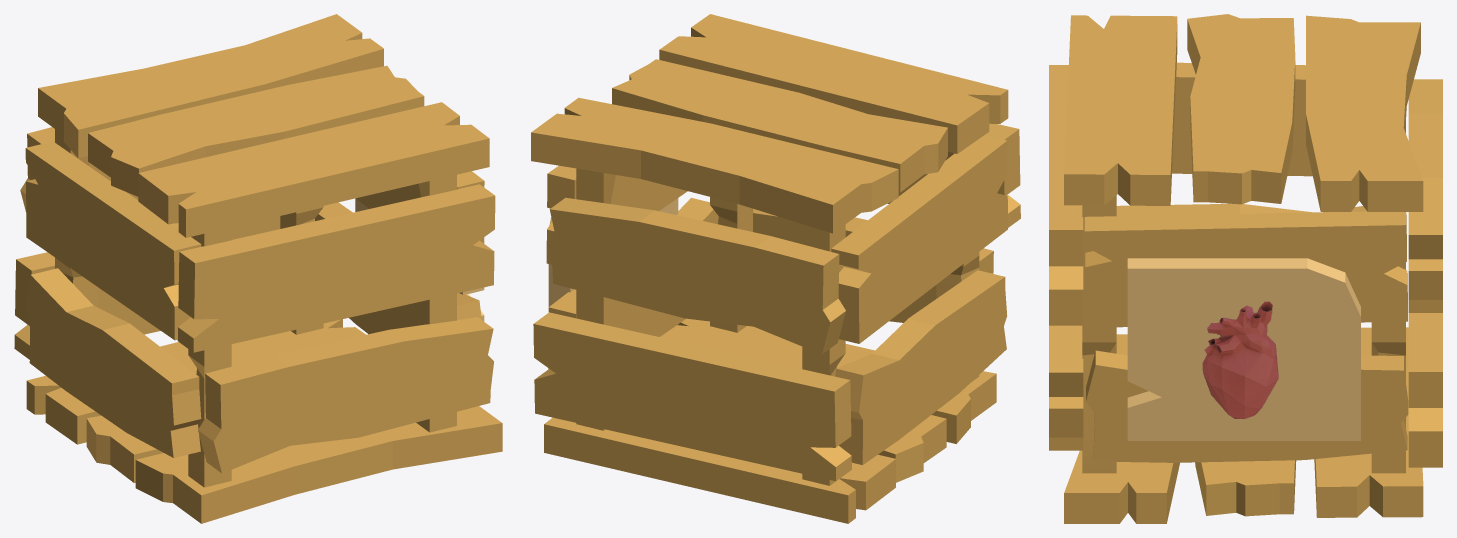
The model's file is BoxHeart.fbx.
3 renders of one model, left to right at view 1: azimuth 30°, elevation 25°; view 2: azimuth 150°, elevation 25°; view 3: azimuth 270°, elevation 25°, orthographic. The views are drawn at different scales.
Visible parts, largest first — view 1: Box_Heart; view 2: Box_Heart; view 3: Box_Heart.
Part boxes in pixels (x1,y1,x2,y2): Box_Heart: [14, 14, 502, 523]; Box_Heart: [531, 14, 1020, 523]; Box_Heart: [1049, 14, 1442, 523].
Size of the model in its own units: 57.66 by 60.62 by 55.39.
